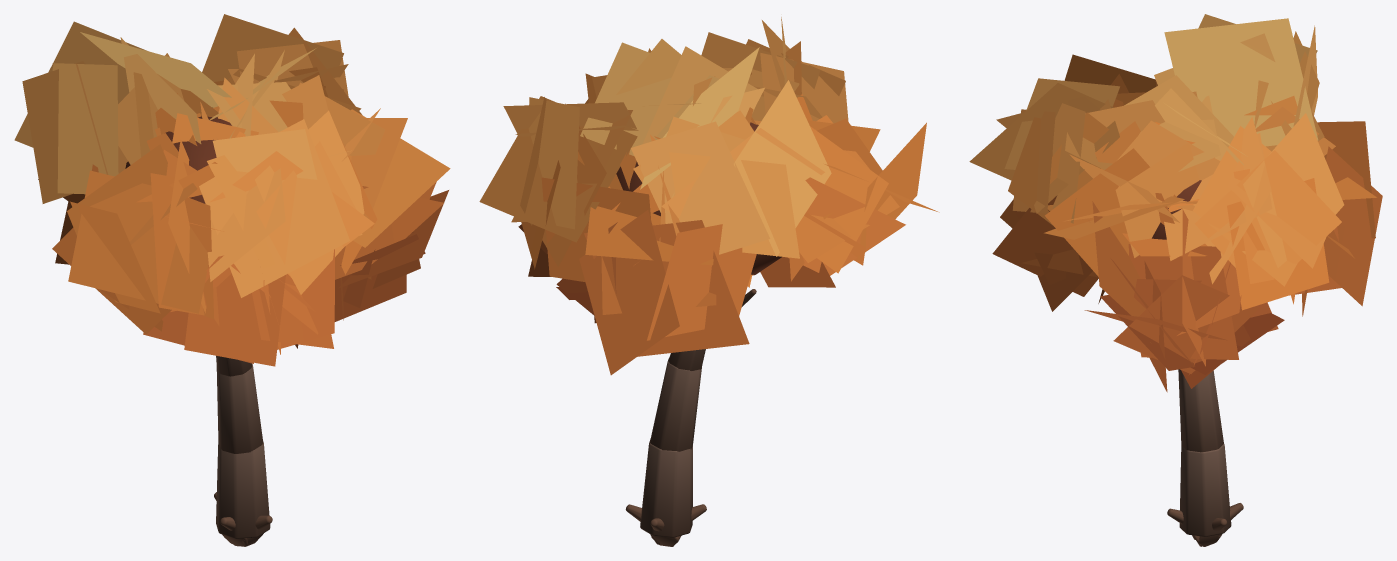
File: tree_orange.glb
The picture shows the model from 3 angles, left to right: view 1: azimuth 30°, elevation 25°; view 2: azimuth 150°, elevation 25°; view 3: azimuth 270°, elevation 25°; orthographic projection. The views are drawn at different scales.
Visible parts, largest first — view 1: Leaves, Tree; view 2: Leaves, Tree; view 3: Leaves, Tree.
Boxes of the visible parts, box(x1,y1,x2,y2) form: Leaves: box(14, 14, 450, 366); Tree: box(125, 116, 272, 546); Leaves: box(479, 17, 939, 375); Tree: box(616, 122, 781, 546); Leaves: box(969, 14, 1382, 392); Tree: box(1152, 180, 1243, 546).
Bounding box in the file's own units: 3.24 × 3.9 × 3.06.
